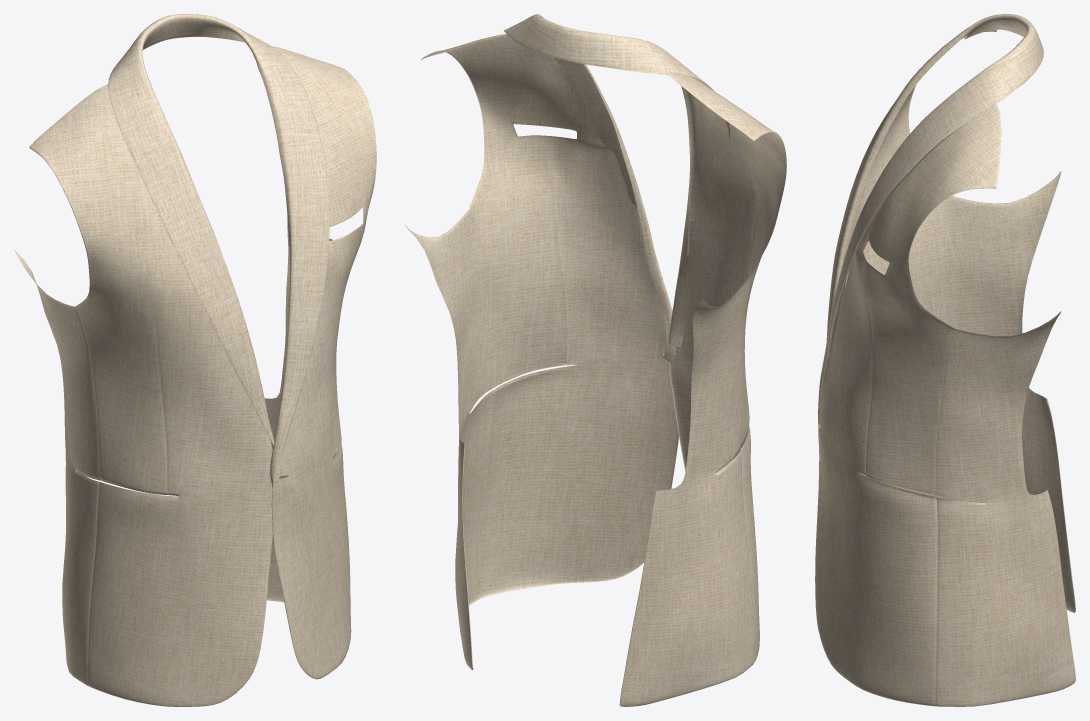
File: single_shawl_button.glb
The picture shows the model from 3 angles, left to right: view 1: azimuth 30°, elevation 25°; view 2: azimuth 150°, elevation 25°; view 3: azimuth 270°, elevation 25°; orthographic projection. The views are drawn at different scales.
Parts seen in each view (by area): view 1: single_shawl_button1; view 2: single_shawl_button1; view 3: single_shawl_button1.
Boxes of the visible parts, x1=… form: single_shawl_button1: x1=14, y1=14, x2=376, y2=706; single_shawl_button1: x1=405, y1=14, x2=786, y2=706; single_shawl_button1: x1=815, y1=14, x2=1075, y2=706.
Size of the model in its own units: 0.0585 by 0.108 by 0.0411.
2 materials, 1 textured.
